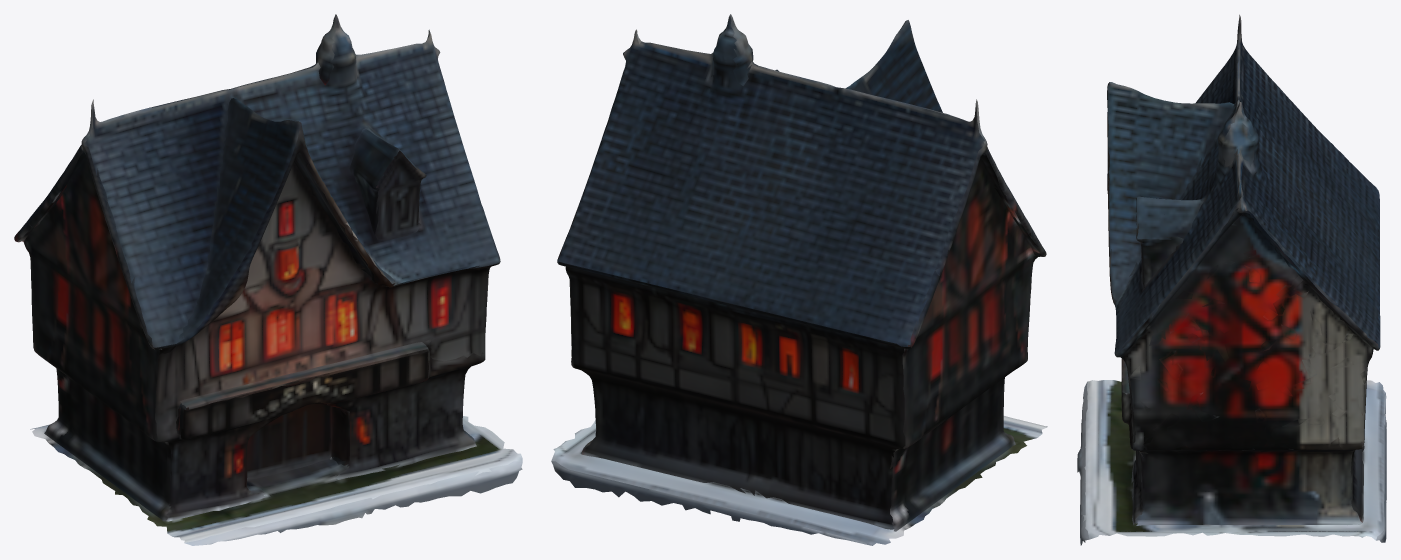
3 views of the same model, side by side, from view 1: azimuth 30°, elevation 25°; view 2: azimuth 150°, elevation 25°; view 3: azimuth 270°, elevation 25° (orthographic). The views are drawn at different scales.
Parts seen in each view (by area): view 1: input.001; view 2: input.001; view 3: input.001.
Boxes of the visible parts, bbox=[...] form: input.001: bbox=[14, 14, 522, 545]; input.001: bbox=[551, 14, 1047, 545]; input.001: bbox=[1077, 14, 1386, 545].
Size of the model in its own units: 17.38 by 19.64 by 13.61.
